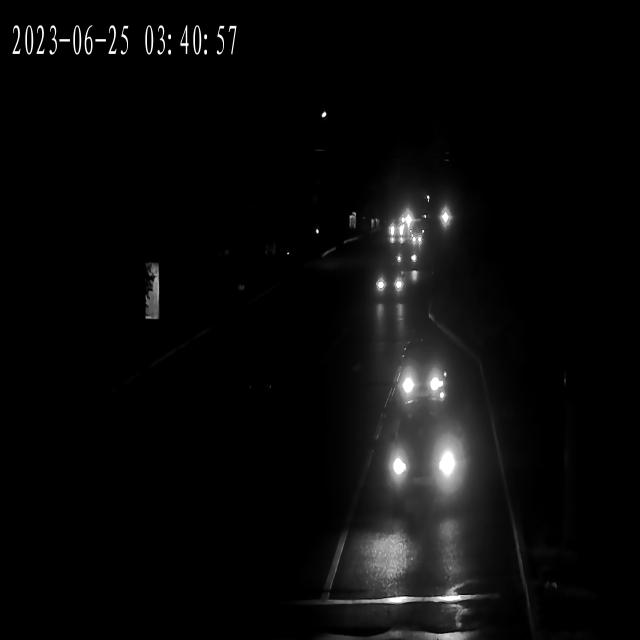Car: (364, 410, 469, 513), (390, 347, 450, 408), (368, 270, 403, 303), (394, 244, 422, 270), (389, 220, 405, 246), (409, 230, 425, 244), (402, 210, 412, 223)
